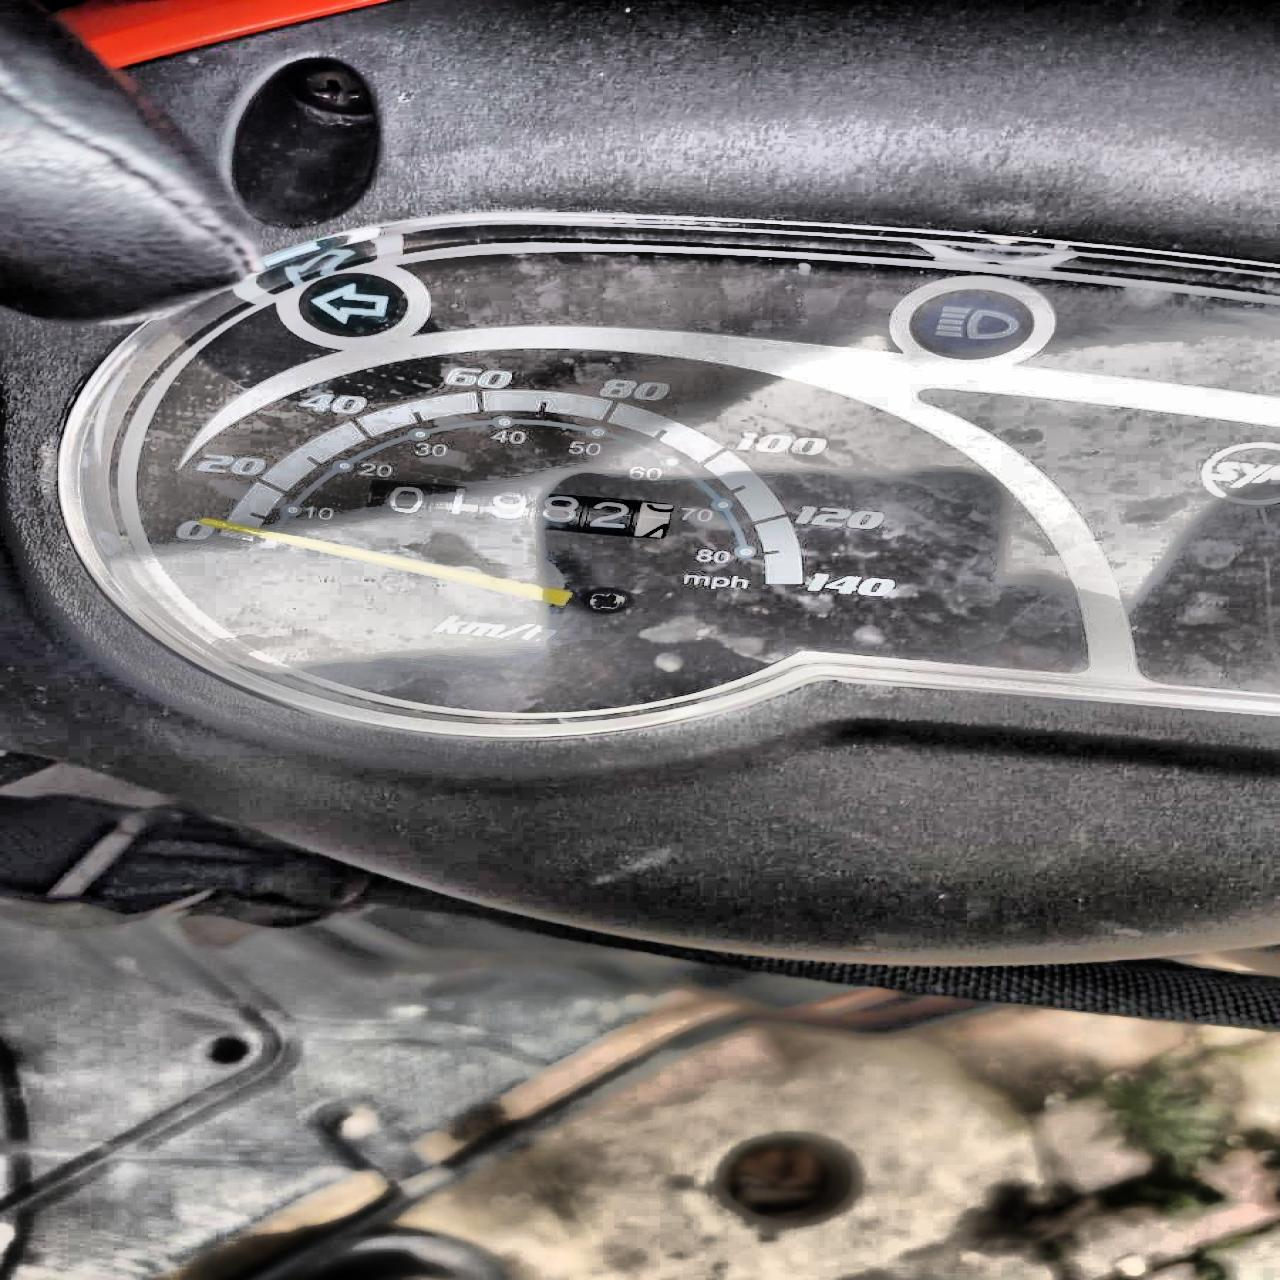0: (382, 485, 422, 516)
1: (441, 483, 469, 524)
2: (586, 499, 628, 533)
4: (633, 516, 672, 540)
8: (538, 492, 578, 525)
9: (483, 488, 531, 525)
odometer: (354, 477, 682, 542)
